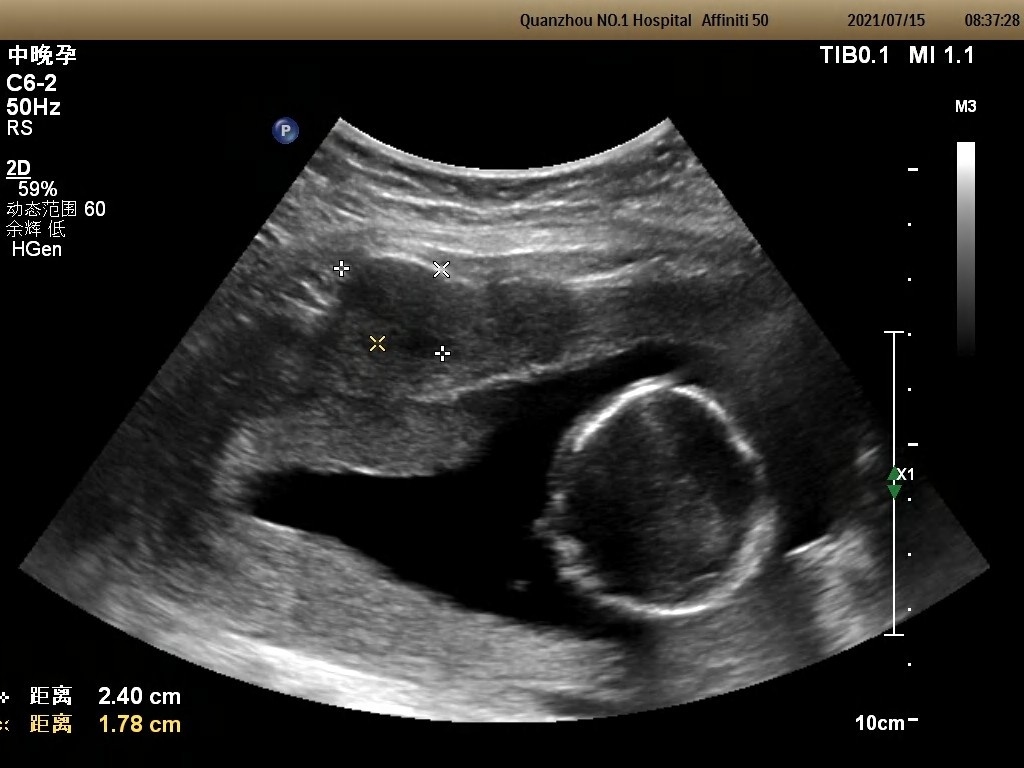肌瘤: (351, 267, 447, 353)
